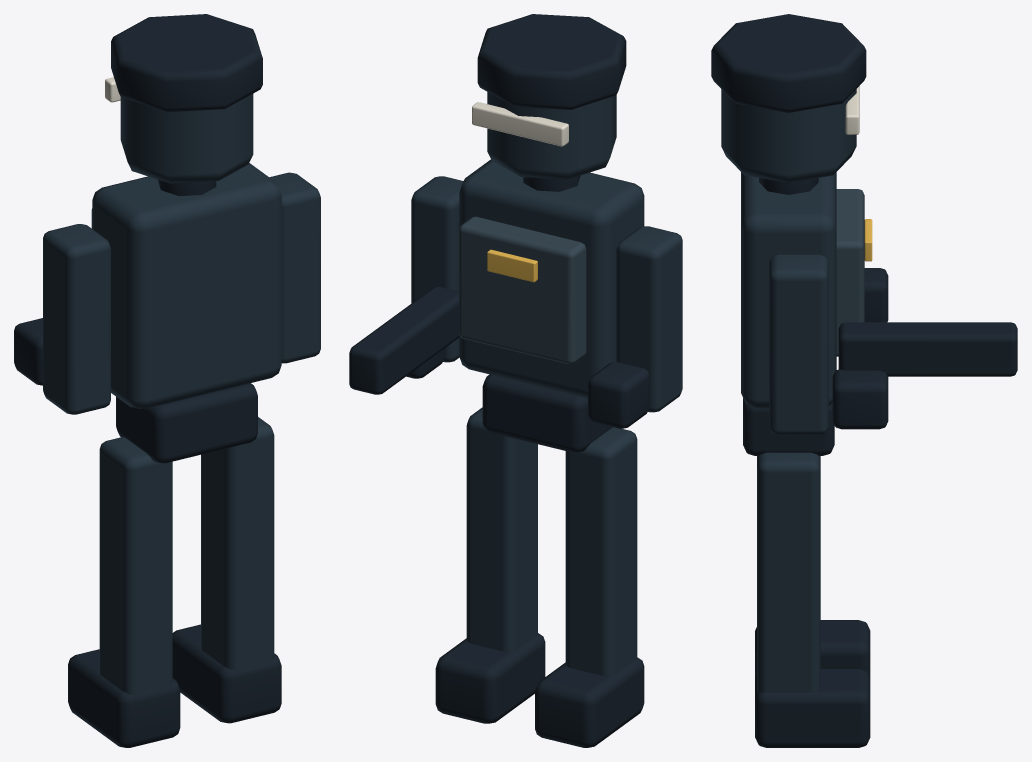
Rendered from enemy.glb.
3 renders of one model, left to right at view 1: azimuth 30°, elevation 25°; view 2: azimuth 150°, elevation 25°; view 3: azimuth 270°, elevation 25°, orthographic. The views are drawn at different scales.
Parts seen in each view (by area): view 1: Torso, LeftLeg, RightLeg, Helmet, LeftArm, Head, Pelvis, RightArm, LeftFoot, RightFoot, LeftHand, Neck; view 2: Torso, LeftLeg, RightLeg, Vest, Helmet, LeftArm, LeftFoot, RightFoot, Head, EnemyGun, Pelvis, RightArm (+4 smaller); view 3: RightLeg, Helmet, Torso, RightArm, EnemyGun, Head, RightFoot, Vest, RightHand, Pelvis, LeftFoot, LeftHand (+2 smaller).
Boxes of the visible parts, x1=… form: Torso: x1=92, y1=163, x2=281, y2=408; LeftLeg: x1=99, y1=437, x2=172, y2=697; RightLeg: x1=201, y1=417, x2=274, y2=672; Helmet: x1=111, y1=14, x2=262, y2=112; LeftArm: x1=43, y1=224, x2=110, y2=414; Head: x1=120, y1=94, x2=253, y2=183; Pelvis: x1=116, y1=383, x2=257, y2=463; RightArm: x1=269, y1=172, x2=320, y2=363; LeftFoot: x1=68, y1=649, x2=180, y2=747; RightFoot: x1=172, y1=624, x2=281, y2=723; LeftHand: x1=14, y1=318, x2=42, y2=385; Neck: x1=158, y1=179, x2=216, y2=196; Torso: x1=459, y1=159, x2=644, y2=398; LeftLeg: x1=565, y1=427, x2=637, y2=675; RightLeg: x1=466, y1=407, x2=537, y2=651; Vest: x1=459, y1=216, x2=586, y2=364; Helmet: x1=477, y1=14, x2=626, y2=109; LeftArm: x1=616, y1=226, x2=682, y2=412; LeftFoot: x1=535, y1=657, x2=644, y2=747; RightFoot: x1=435, y1=633, x2=545, y2=723; Head: x1=487, y1=92, x2=616, y2=179; EnemyGun: x1=349, y1=286, x2=459, y2=394; Pelvis: x1=482, y1=374, x2=612, y2=452; RightArm: x1=411, y1=176, x2=463, y2=362; RightLeg: x1=757, y1=452, x2=820, y2=692; Helmet: x1=711, y1=14, x2=866, y2=112; Torso: x1=741, y1=172, x2=836, y2=408; RightArm: x1=769, y1=254, x2=828, y2=435; EnemyGun: x1=838, y1=322, x2=1017, y2=376; Head: x1=721, y1=89, x2=856, y2=182; RightFoot: x1=755, y1=669, x2=870, y2=747; Vest: x1=836, y1=189, x2=864, y2=356; RightHand: x1=832, y1=369, x2=888, y2=429; Pelvis: x1=743, y1=398, x2=834, y2=455; LeftFoot: x1=755, y1=620, x2=870, y2=678; LeftHand: x1=864, y1=268, x2=888, y2=322.
Bounding box in the file's own units: 0.73 × 1.85 × 0.77.
